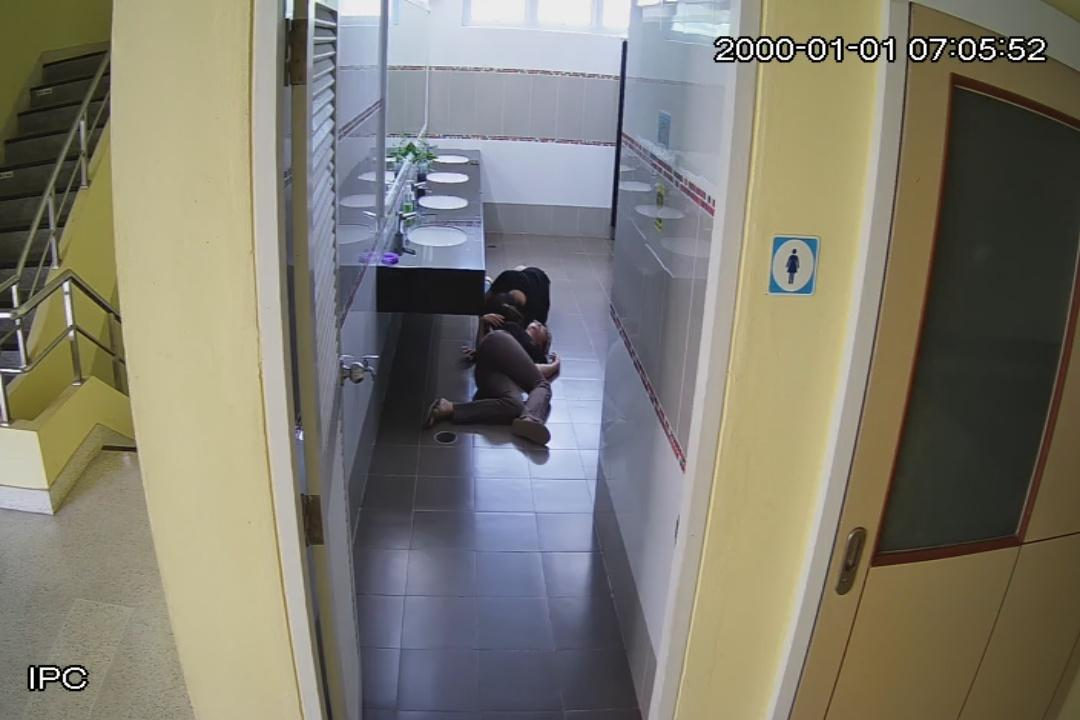fall: (424, 318, 568, 452), (478, 258, 558, 322)
